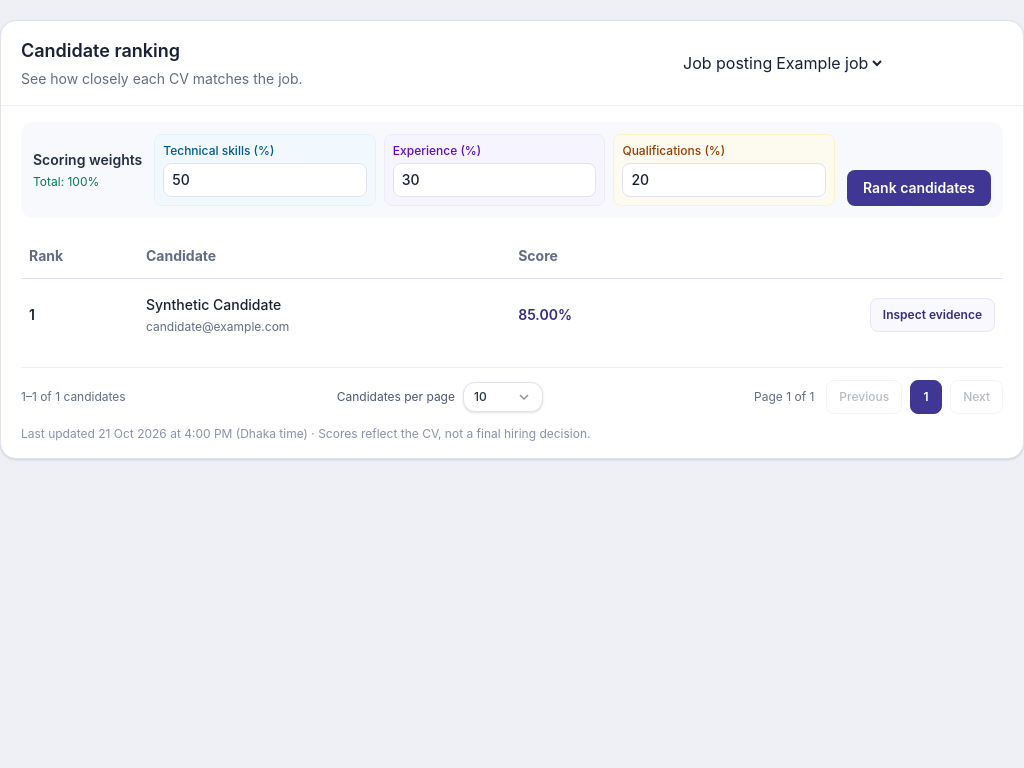
identifies OCR evidence and the original page references
The width and height of the screenshot is (1024, 768).
Click the button named "Inspect evidence for Synthetic Candidate" at (932, 315), box [870, 298, 995, 332]
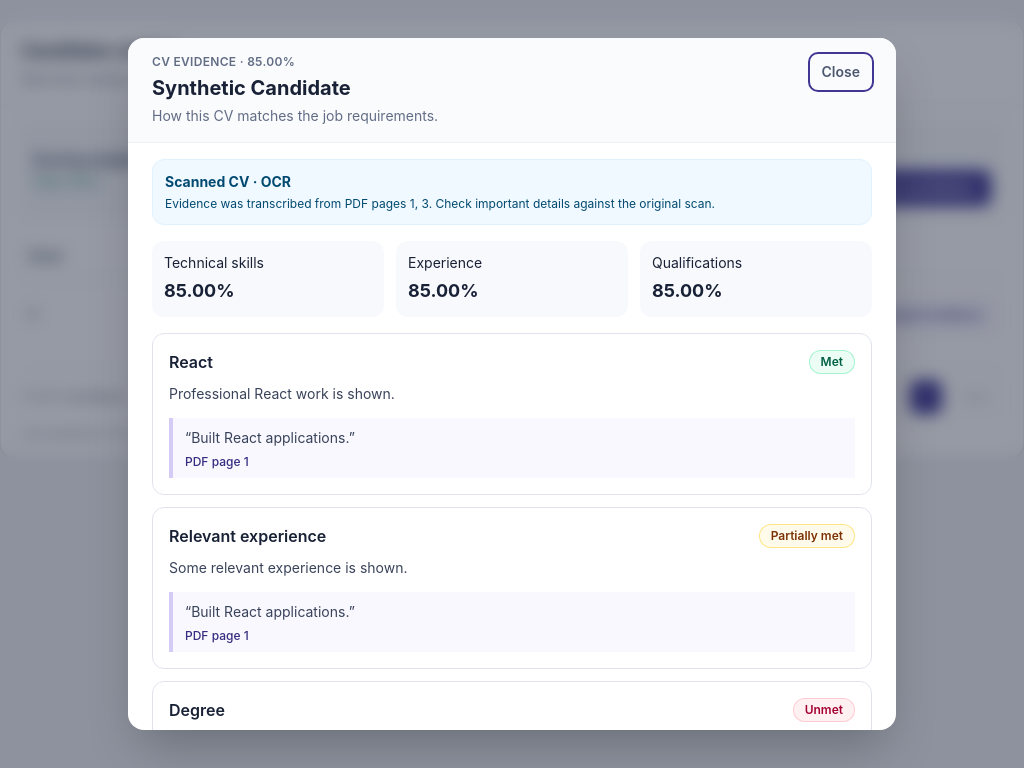
Expected: the text "Scanned CV · OCR" is shown, [165, 173, 291, 190]
Expected: the text "PDF pages 1, 3" is shown, [165, 196, 715, 211]
Expected: the text "Check important details against the original scan" is shown, [429, 196, 715, 211]
